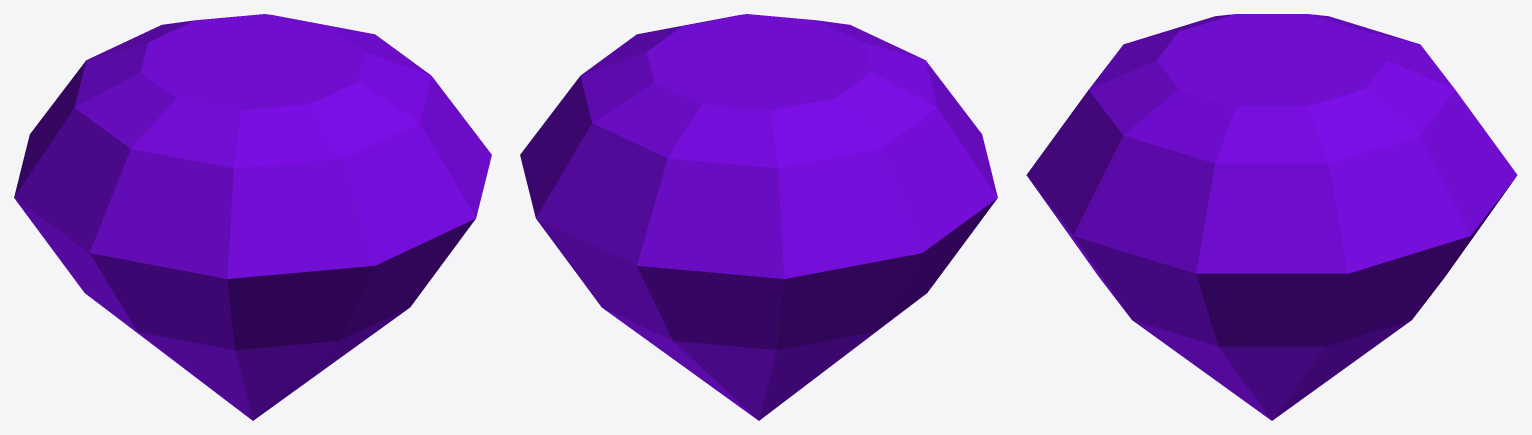
Rendered from punto1.glb.
3 renders of one model, left to right at view 1: azimuth 30°, elevation 25°; view 2: azimuth 150°, elevation 25°; view 3: azimuth 270°, elevation 25°, orthographic.
Visible parts, largest first — view 1: Cubo.027; view 2: Cubo.027; view 3: Cubo.027.
Part boxes in pixels (x1,y1,x2,y2): Cubo.027: (14,14,491,420); Cubo.027: (520,14,997,420); Cubo.027: (1026,14,1517,420).
Bounding box in the file's own units: 0.1005 × 0.0856 × 0.1057.
